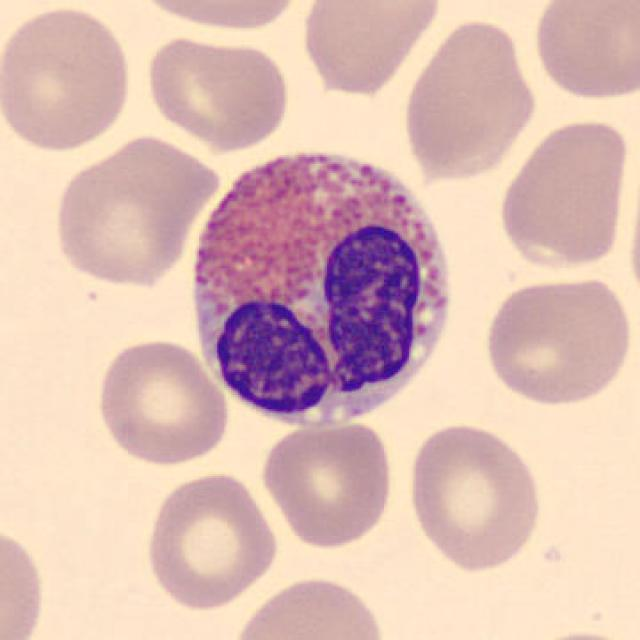Eosinophil: (178, 128, 468, 442)
RBC: (48, 132, 220, 289), (398, 14, 542, 183), (494, 115, 633, 273), (404, 420, 546, 574), (480, 272, 635, 409), (0, 2, 137, 157), (140, 467, 281, 614), (140, 28, 292, 154), (256, 418, 398, 550), (93, 335, 231, 469), (295, 0, 446, 97), (528, 0, 638, 104), (228, 573, 390, 640), (0, 520, 50, 640), (128, 0, 306, 33), (624, 138, 640, 324), (512, 626, 638, 640)
